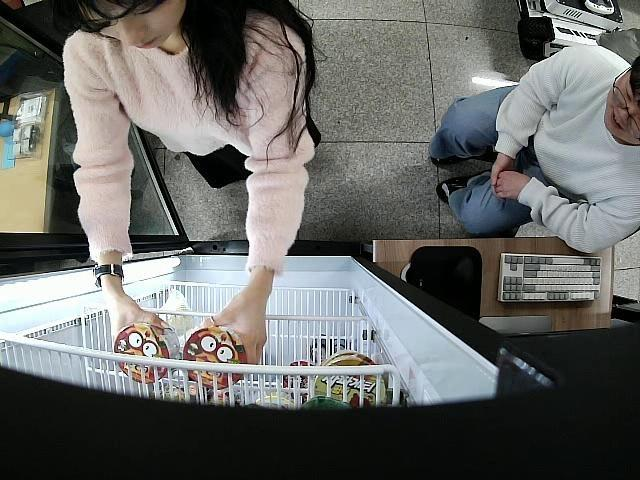06_nuguri_S: (182, 324, 248, 390), (113, 324, 181, 382)
